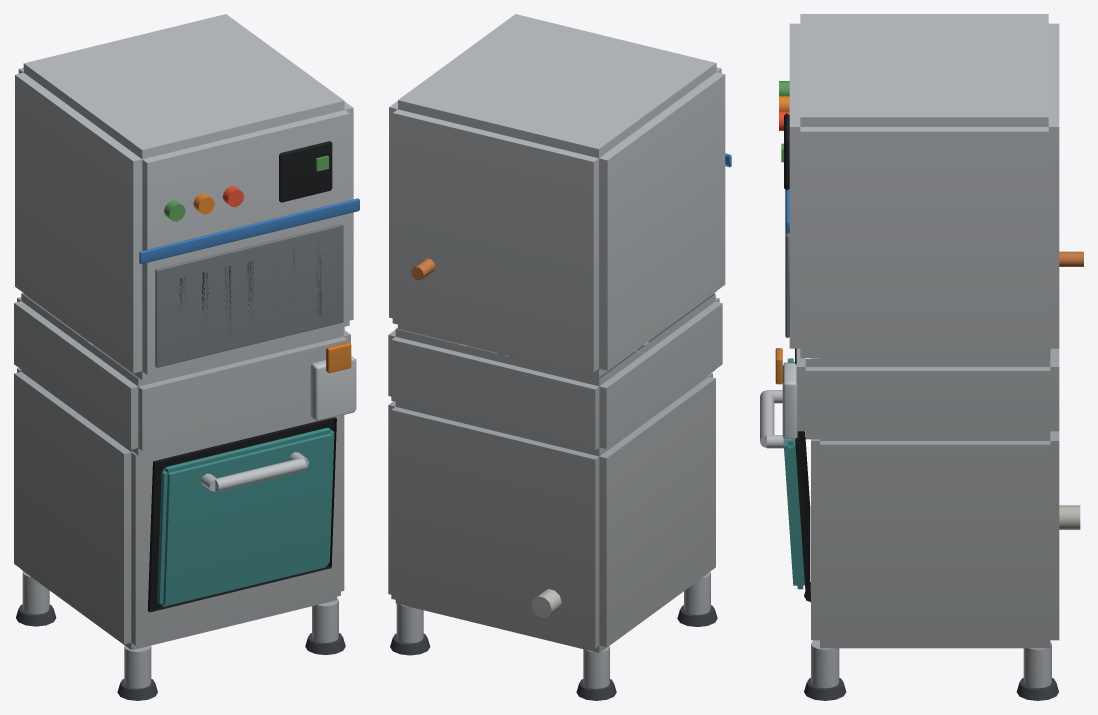
Rendered from SM_IceMachine_Bin_01.glb.
3 views of the same model, side by side, from view 1: azimuth 30°, elevation 25°; view 2: azimuth 150°, elevation 25°; view 3: azimuth 270°, elevation 25° (orthographic). The views are drawn at different scales.
Visible parts, largest first — view 1: SM_IceMachine_Bin_01; view 2: SM_IceMachine_Bin_01; view 3: SM_IceMachine_Bin_01.
Part boxes in pixels (x1=…): SM_IceMachine_Bin_01: x1=14, y1=14, x2=359, y2=700; SM_IceMachine_Bin_01: x1=388, y1=14, x2=731, y2=700; SM_IceMachine_Bin_01: x1=760, y1=14, x2=1083, y2=700.
Bounding box in the file's own units: 0.76 × 1.8 × 0.9138.
1 material, 1 textured.
